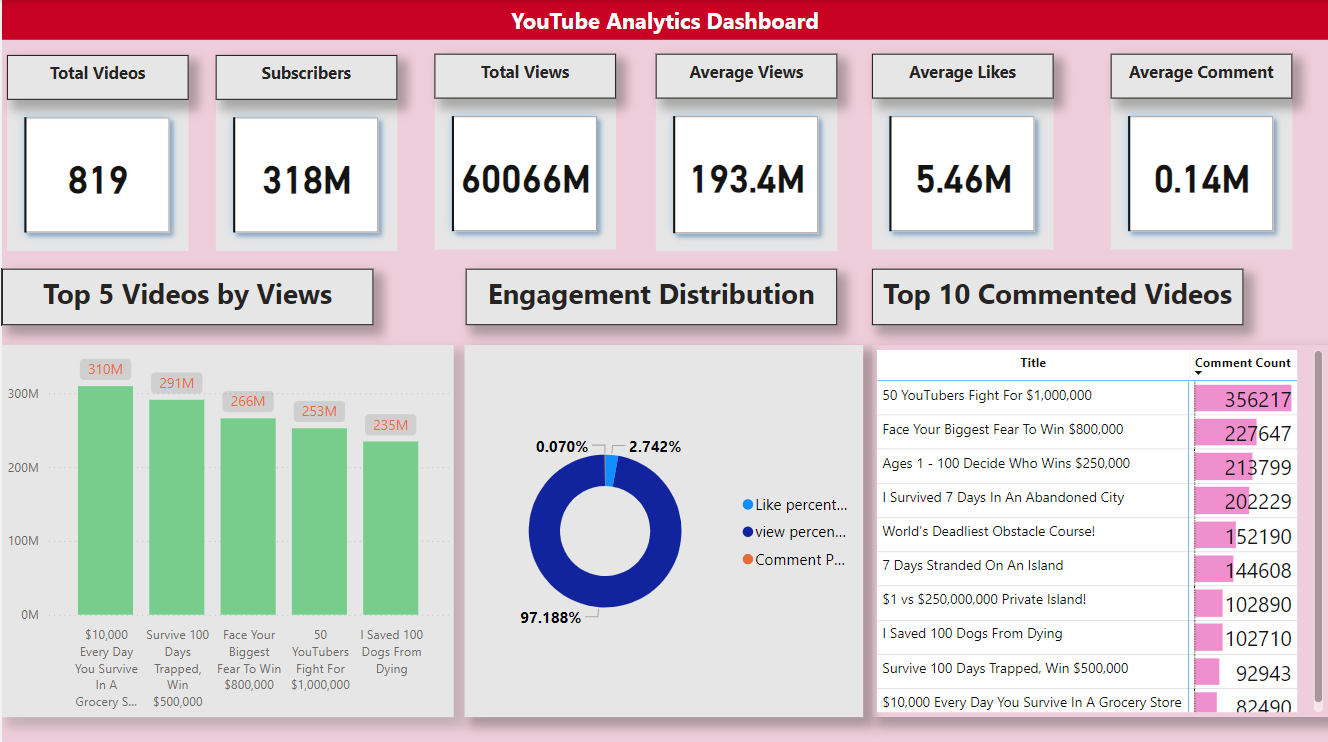

This screenshot's page, from the dashboard's own definition file:
{"tool":"powerbi","page":{"name":"Page 1","canvas":[1280,720],"ordinal":0},"visuals":[{"type":"cardVisual","fields":{"Data":["Sum(views_stats.videoCount)"]},"box":[4.8,96.5,174.9,146],"z":0},{"type":"textbox","box":[4.8,53.1,174.9,43.4],"z":1000},{"type":"columnChart","fields":{"Category":["top_videos_stats csv.title"],"Y":["Sum(top_videos_stats csv.viewcount)"]},"box":[0,333.4,436.4,359.5],"z":2000},{"type":"textbox","box":[0,259.4,358.3,54.3],"z":3000},{"type":"cardVisual","fields":{"Data":["Sum(views_stats.subscriberCount)"]},"box":[205.9,96.9,174.9,146],"z":4000},{"type":"textbox","box":[205.9,53.4,174.9,43.4],"z":5000},{"type":"cardVisual","fields":{"Data":["Sum(views_stats.viewCount)"]},"box":[417.4,95.3,174.9,146],"z":6000},{"type":"textbox","box":[417.3,52.5,174.9,43.4],"z":7000},{"type":"cardVisual","fields":{"Data":["Avg(views_stats.avg_views)"]},"box":[631,95.3,174.9,147.2],"z":8000},{"type":"textbox","box":[630.6,51.5,174.9,43.4],"z":9000},{"type":"cardVisual","fields":{"Data":["Sum(views_stats.avg_like)"]},"box":[840,95.9,174.9,146],"z":10000},{"type":"textbox","box":[840,52.5,174.9,43.4],"z":11000},{"type":"cardVisual","fields":{"Data":["Sum(views_stats.avg_comment)"]},"box":[1069.7,94.9,174.9,146],"z":12000},{"type":"textbox","box":[1069.7,51.5,174.9,43.4],"z":13000},{"type":"donutChart","fields":{"Y":["top_videos_stats csv.Like percentage","top_videos_stats csv.view percentage","top_videos_stats csv.Comment Percentage"]},"box":[446.4,333,384.9,359.5],"z":14000},{"type":"textbox","box":[447.6,259.4,358.3,54.3],"z":15000},{"type":"pivotTable","fields":{"Rows":["top_videos_stats csv.title"],"Values":["Sum(top_videos_stats csv.commentcount)"]},"box":[839.8,333.4,440.5,359.5],"z":16000},{"type":"textbox","box":[0,0,1280,38.6],"z":17000},{"type":"textbox","box":[839.7,259.4,358.3,54.3],"z":18000}]}

Visuals, with their boxes in screenshot pixels (x1, y1, x2, y2), scaled from the page's 1280x720 canvas onto the 1328x742 screenshot:
cardVisual - Sum(views_stats.videoCount): 5,99,186,250
textbox: 5,55,186,99
columnChart - top_videos_stats csv.title x Sum(top_videos_stats csv.viewcount): 0,344,453,714
textbox: 0,267,372,323
cardVisual - Sum(views_stats.subscriberCount): 214,100,395,250
textbox: 214,55,395,100
cardVisual - Sum(views_stats.viewCount): 433,98,615,249
textbox: 433,54,614,99
cardVisual - Avg(views_stats.avg_views): 655,98,836,250
textbox: 654,53,836,98
cardVisual - Sum(views_stats.avg_like): 872,99,1053,249
textbox: 872,54,1053,99
cardVisual - Sum(views_stats.avg_comment): 1110,98,1291,248
textbox: 1110,53,1291,98
donutChart - top_videos_stats csv.Like percentage x top_videos_stats csv.view percentage: 463,343,862,714
textbox: 464,267,836,323
pivotTable - top_videos_stats csv.title x Sum(top_videos_stats csv.commentcount): 871,344,1327,714
textbox: 0,0,1327,40
textbox: 871,267,1243,323
